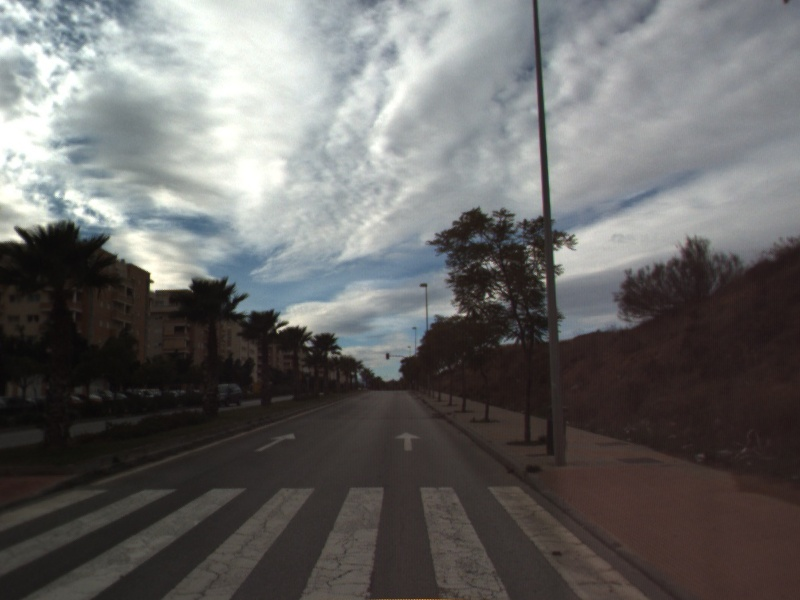STRAIGHT: (253, 431, 297, 453), (393, 430, 423, 453)
